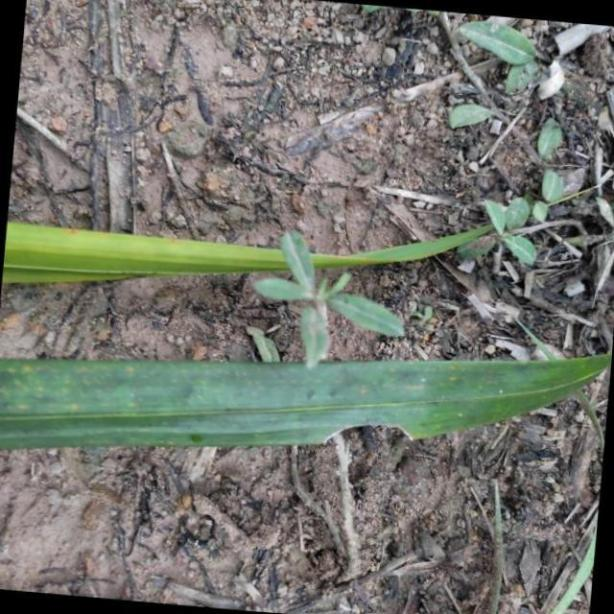nitrogen: (0, 218, 528, 290)
